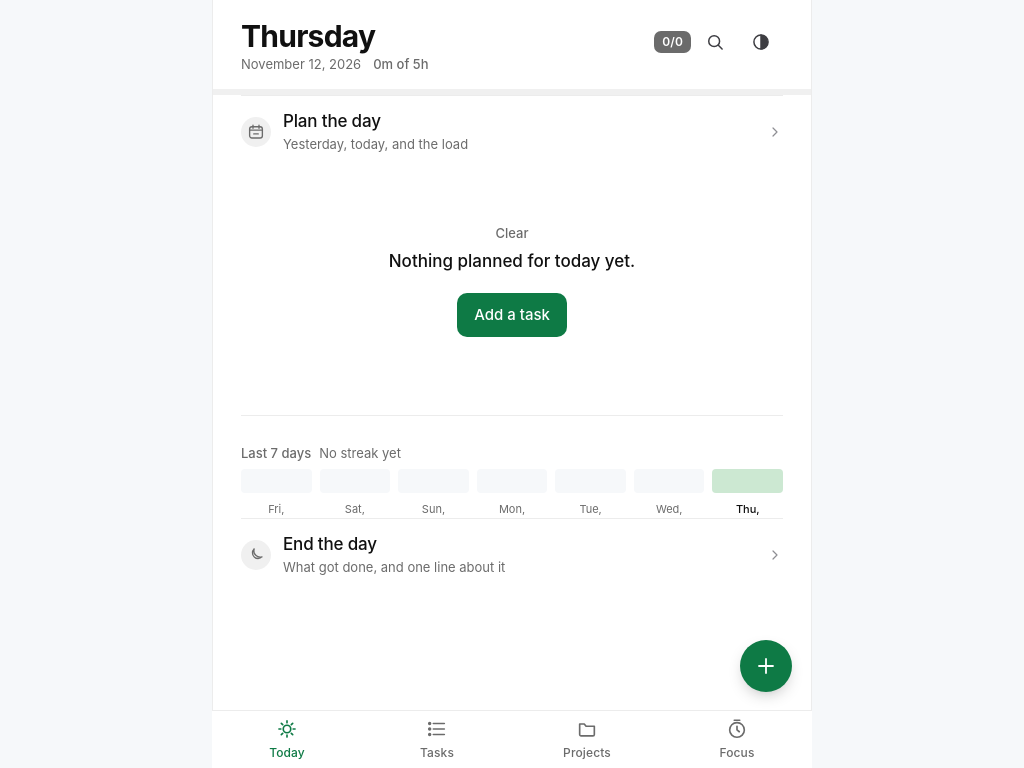
Test: app integration › filters the Tasks view by status and No project
Click the button named "New task".
click(766, 666)  # box 740,640 -> 792,692
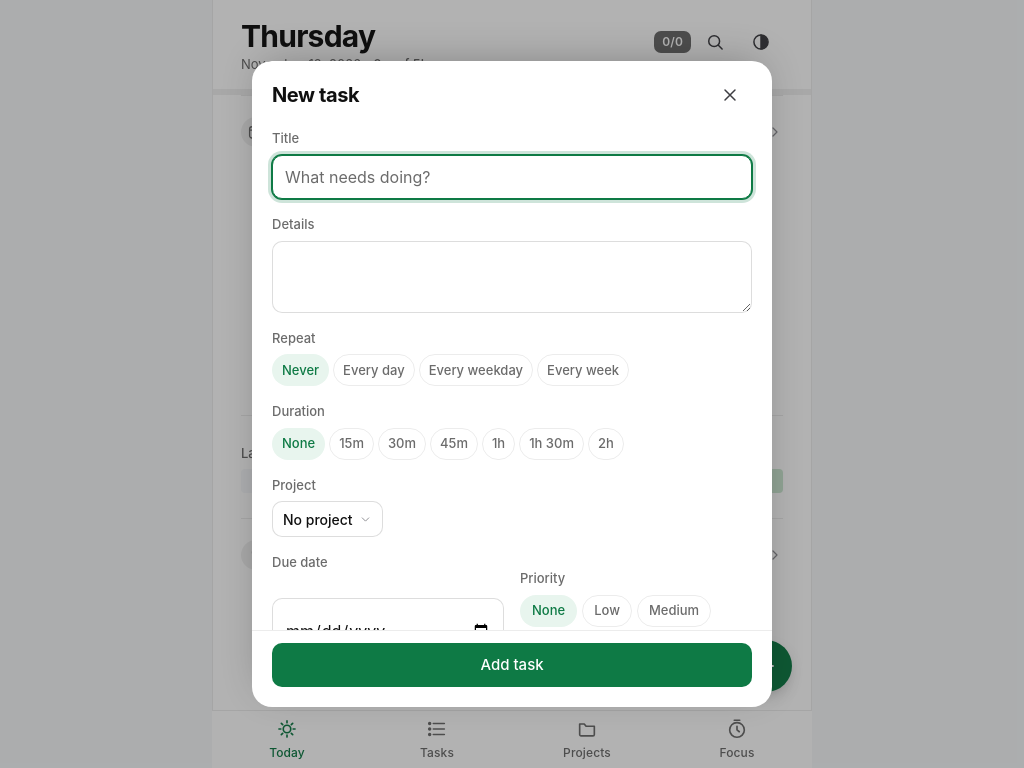
Type "Alpha" into the field labelled "Title".
click(512, 177); type("Alpha")  # box 272,155 -> 752,199
Click the button "Add task".
click(512, 664)  # box 272,642 -> 752,686
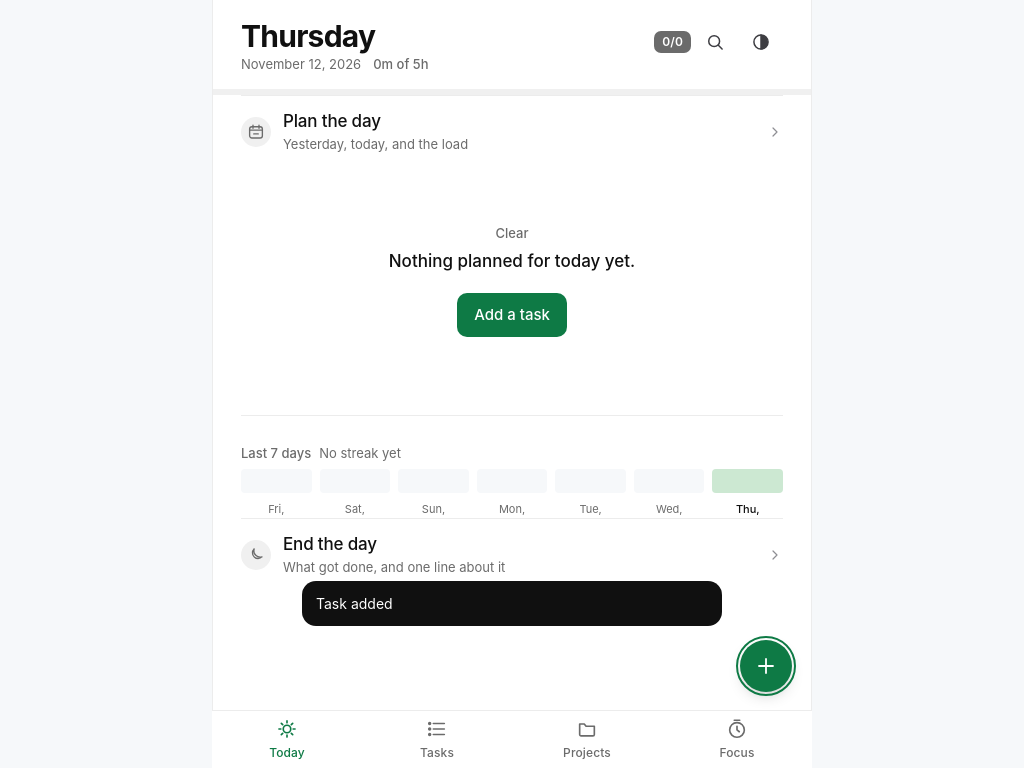
Click the link "Tasks".
click(437, 739)  # box 420,718 -> 454,760
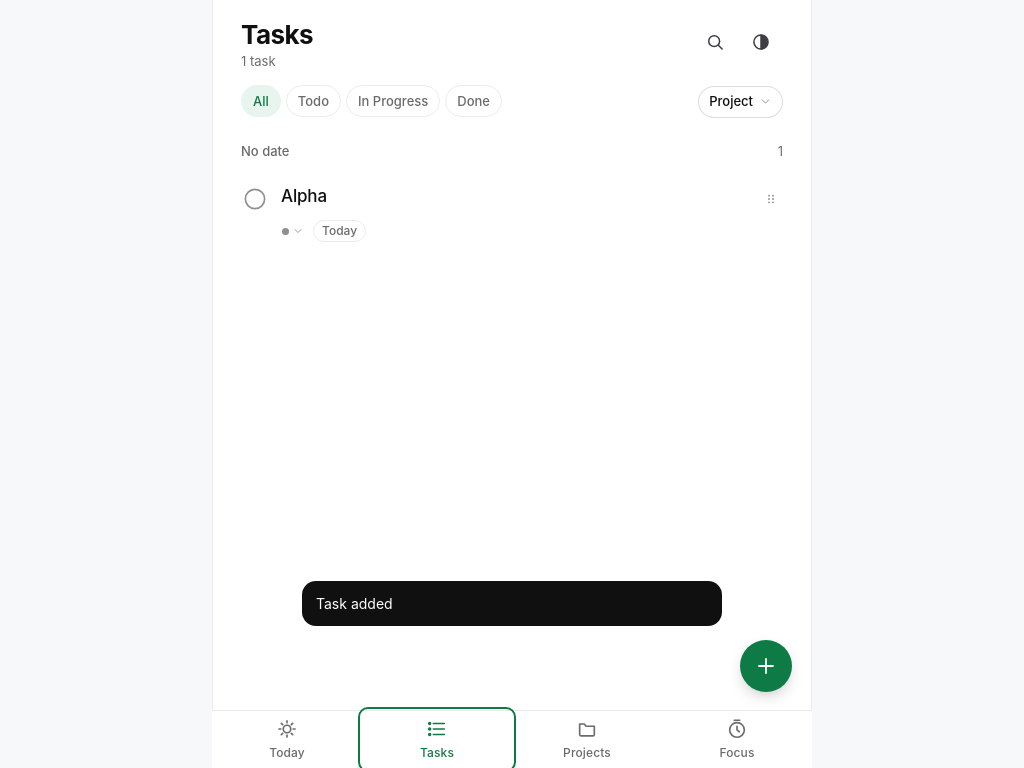
Result: the text "Alpha" is shown at 281,186 -> 327,206
Click the button "Project".
click(741, 102)  # box 698,86 -> 783,118
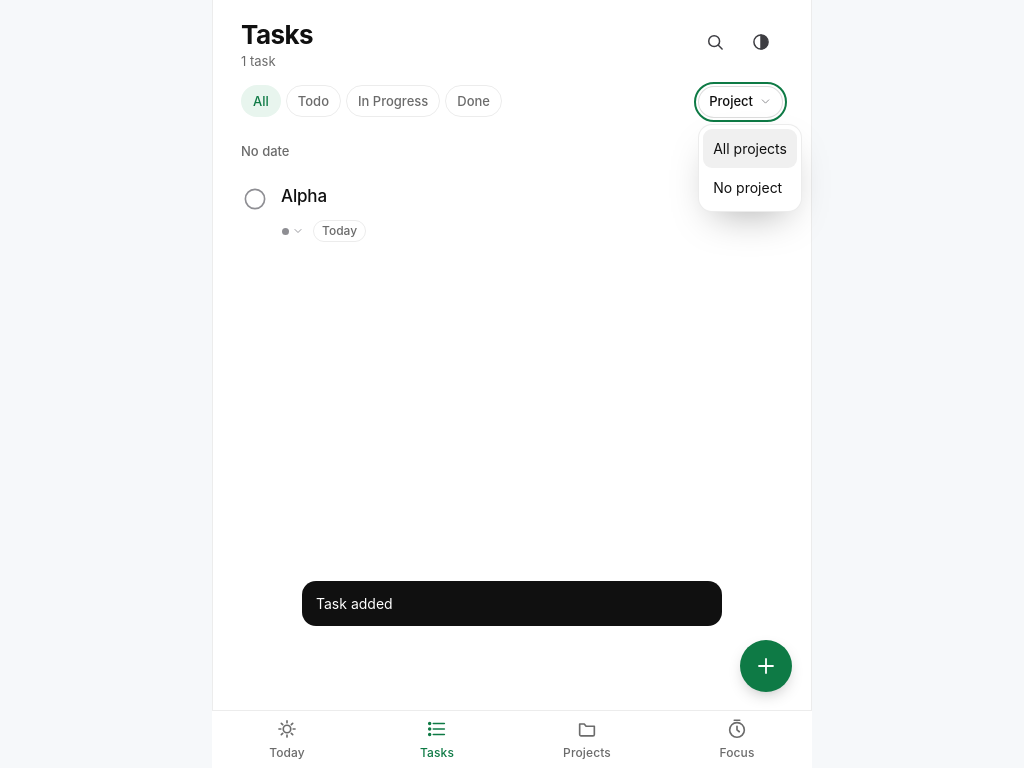
Click the option "No project".
click(748, 187)  # box 713,179 -> 782,196
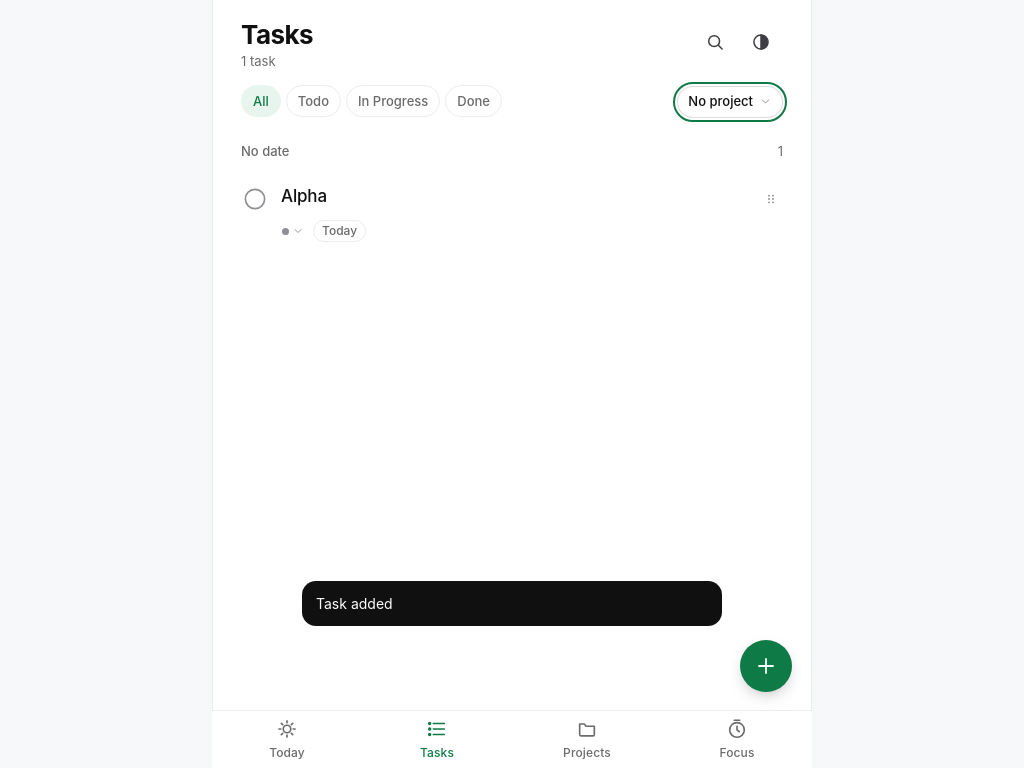
Result: the text "Alpha" is shown at 281,186 -> 327,206
Click the button "Done".
click(474, 101)  # box 445,85 -> 502,117
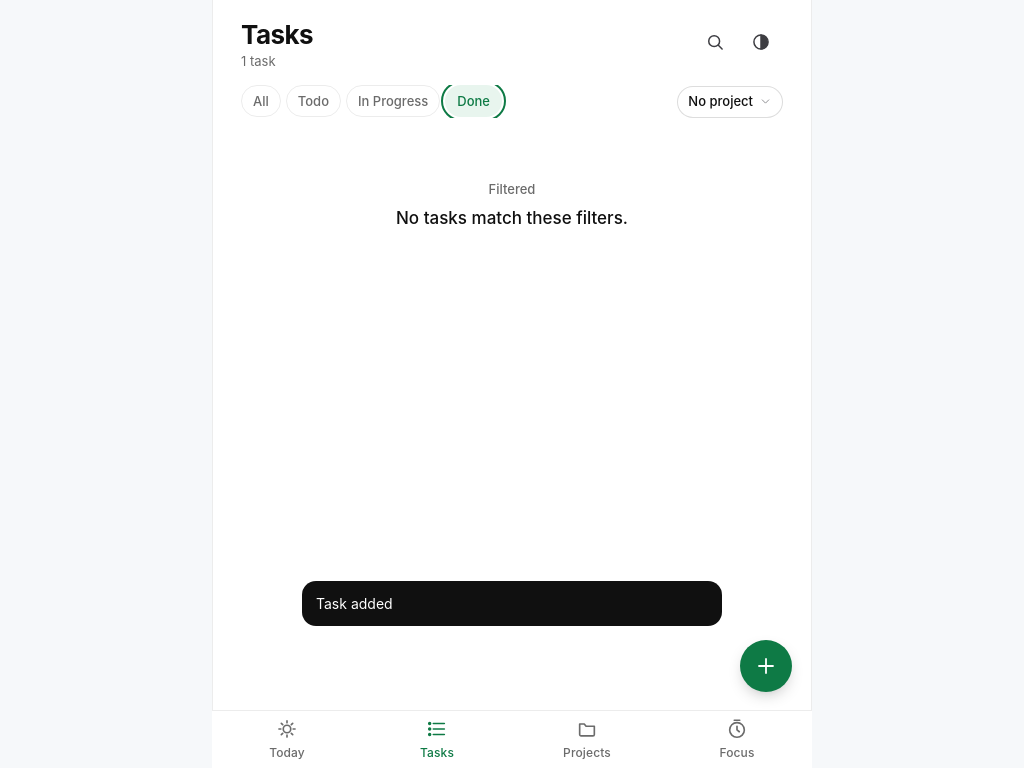
Result: the text "No tasks match these filters." is shown at 396,208 -> 628,228
